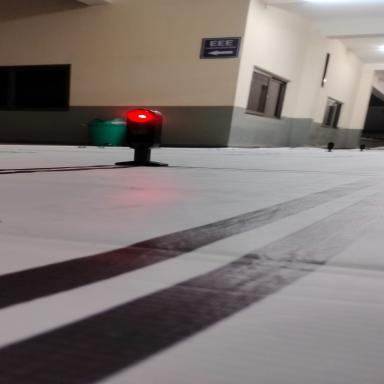traffic red: (88, 94, 207, 174)
